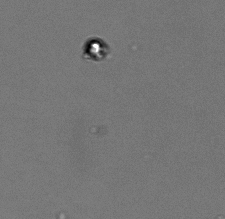Living Cell: (84, 37, 105, 57)
